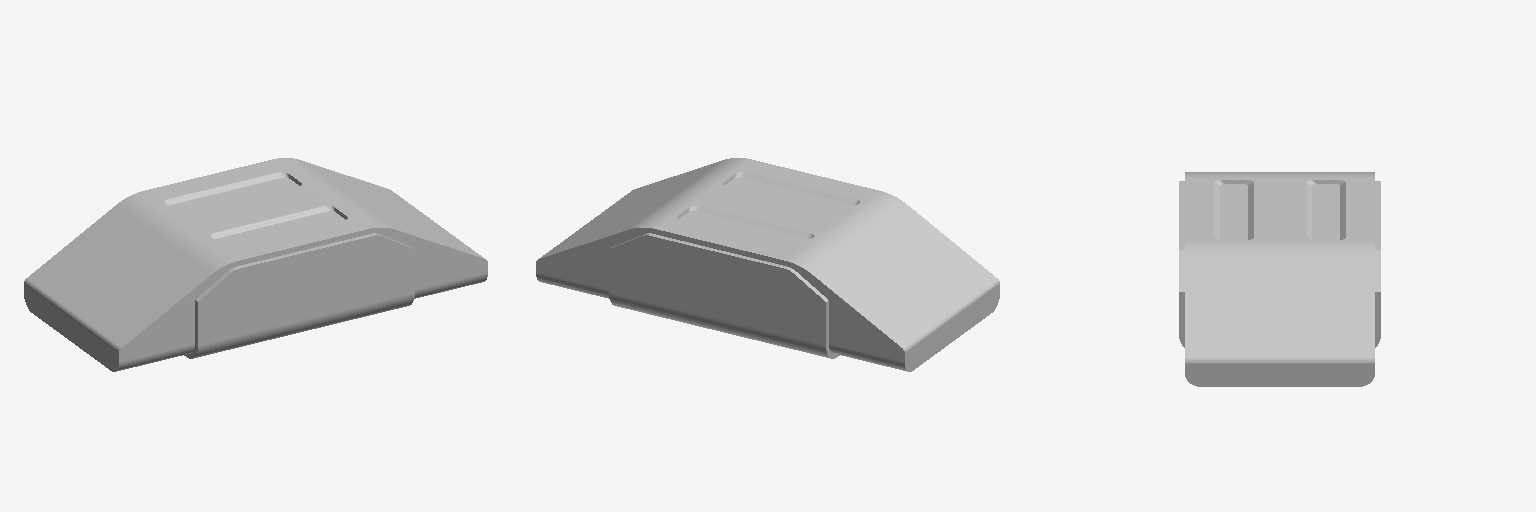
3 views of the same model, side by side, from view 1: azimuth 30°, elevation 25°; view 2: azimuth 150°, elevation 25°; view 3: azimuth 270°, elevation 25° (orthographic).
Visible parts, largest first — view 1: Sci-Fi_Crate24_2; view 2: Sci-Fi_Crate24_2; view 3: Sci-Fi_Crate24_2.
Boxes of the visible parts, x1,y1,x2,y2 form: Sci-Fi_Crate24_2: [24, 158, 487, 371]; Sci-Fi_Crate24_2: [536, 158, 999, 371]; Sci-Fi_Crate24_2: [1179, 172, 1380, 386].
Bounding box in the file's own units: 23.4 × 5.58 × 11.08.